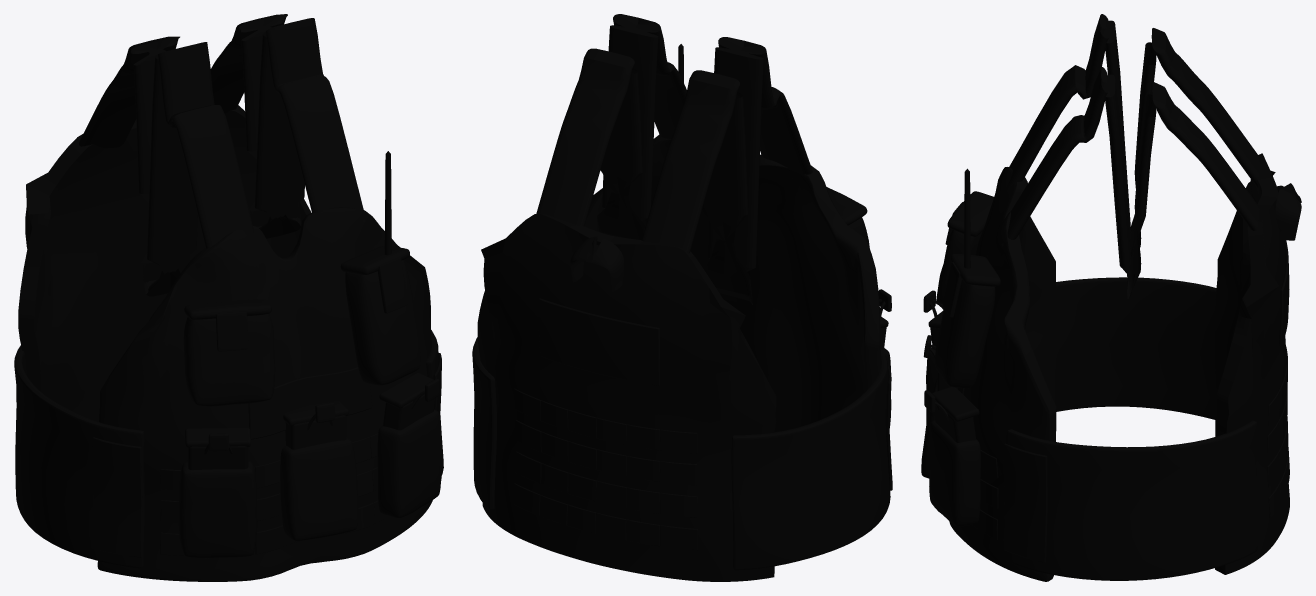
The model's file is _test_vest_2.glb.
3 renders of one model, left to right at view 1: azimuth 30°, elevation 25°; view 2: azimuth 150°, elevation 25°; view 3: azimuth 270°, elevation 25°, orthographic. The views are drawn at different scales.
Visible parts, largest first — view 1: body; view 2: body; view 3: body.
Boxes of the visible parts, x1,y1,x2,y2 form: body: (14,14,443,581); body: (472,14,892,581); body: (921,14,1301,581).
Size of the model in its own units: 0.4687 by 0.5624 by 0.4235.
7 materials, 7 textured.
